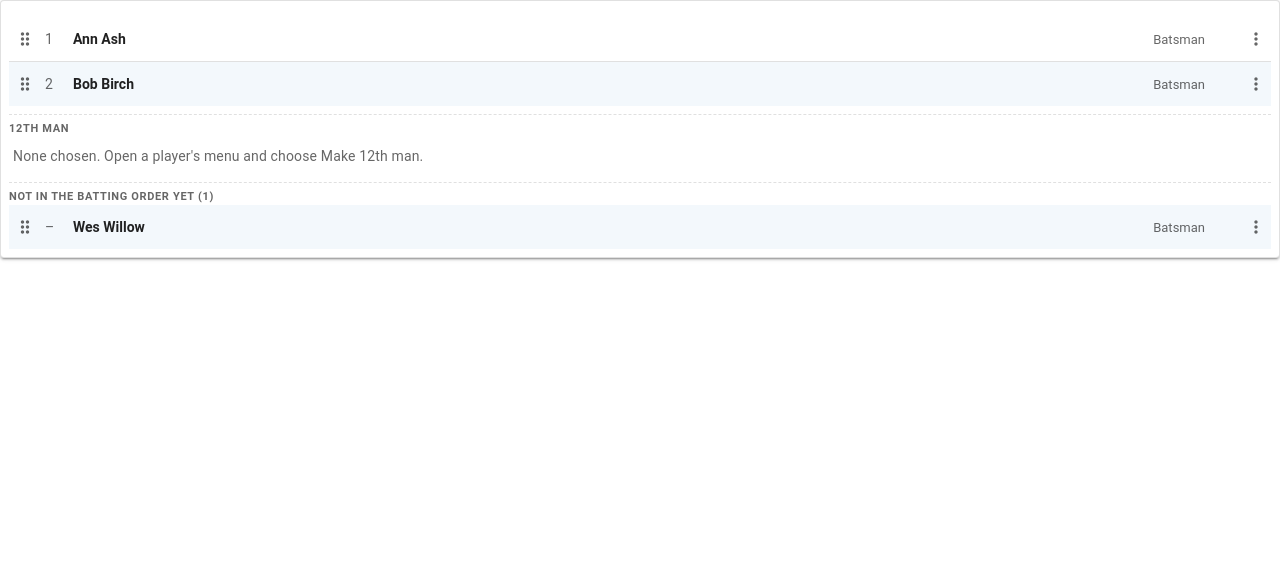
TeamSelectionList › the batting position spinner › is disabled with the reason for a waiting player when every place is full
The width and height of the screenshot is (1280, 564).
Click the button "Wes Willow" at [109, 227], box left=69, top=209, right=149, bottom=245
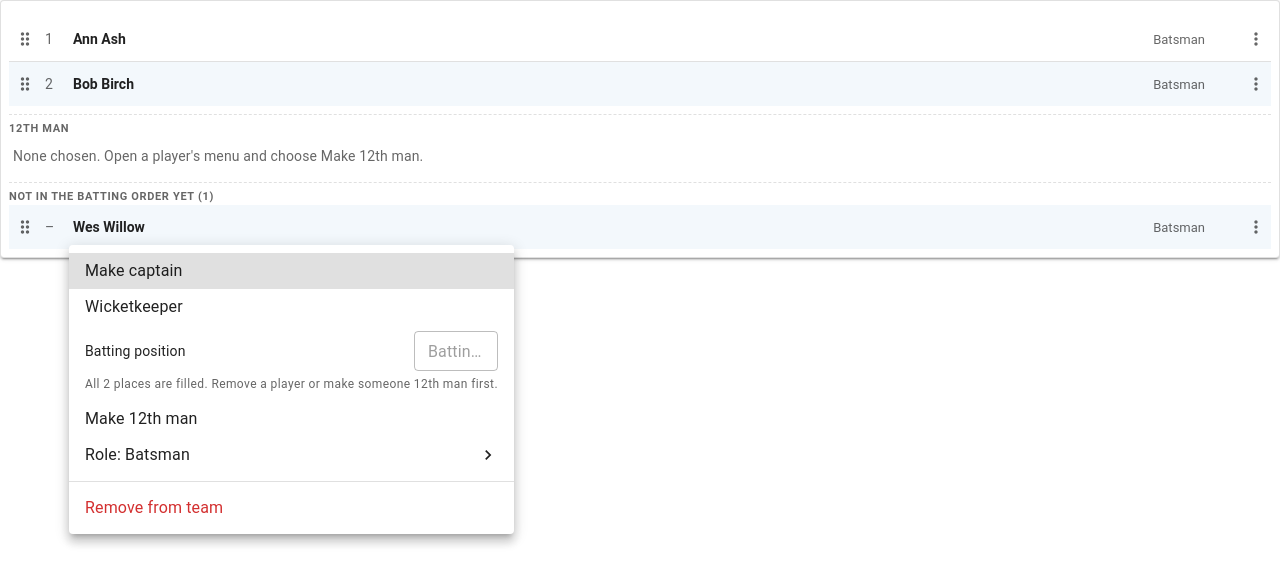
Expected: the field named "Batting position for Wes Willow" is disabled, left=414, top=331, right=498, bottom=371
Expected: the text "All 2 places are filled. Remove a player or make someone 12th man first." is shown, left=85, top=375, right=498, bottom=395
